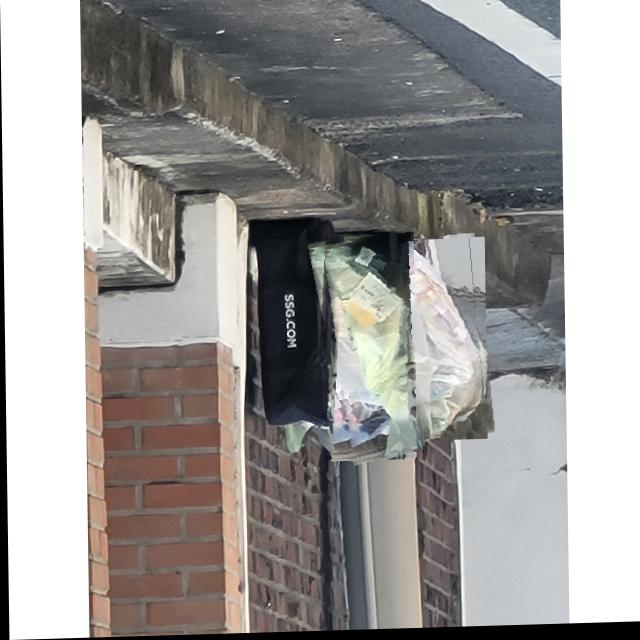general_trashbag: (320, 234, 415, 460)
other_trashbag: (353, 243, 481, 439)
